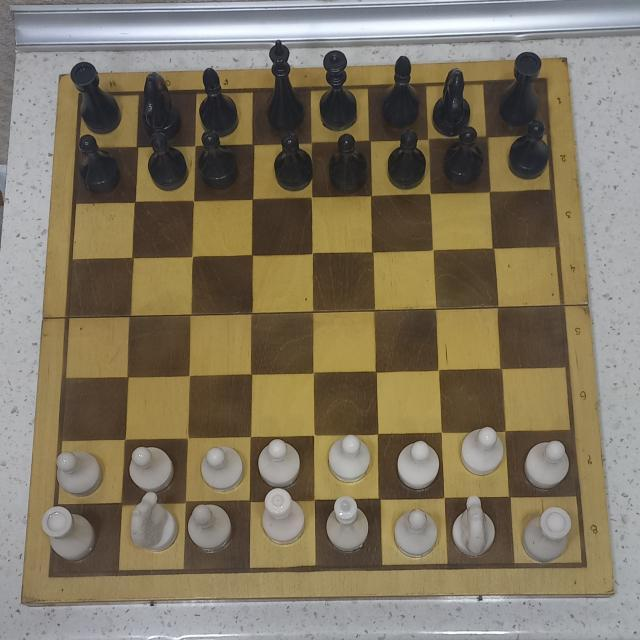chess-table-corners: (567, 549, 600, 580), (34, 562, 66, 592), (538, 72, 552, 87)
